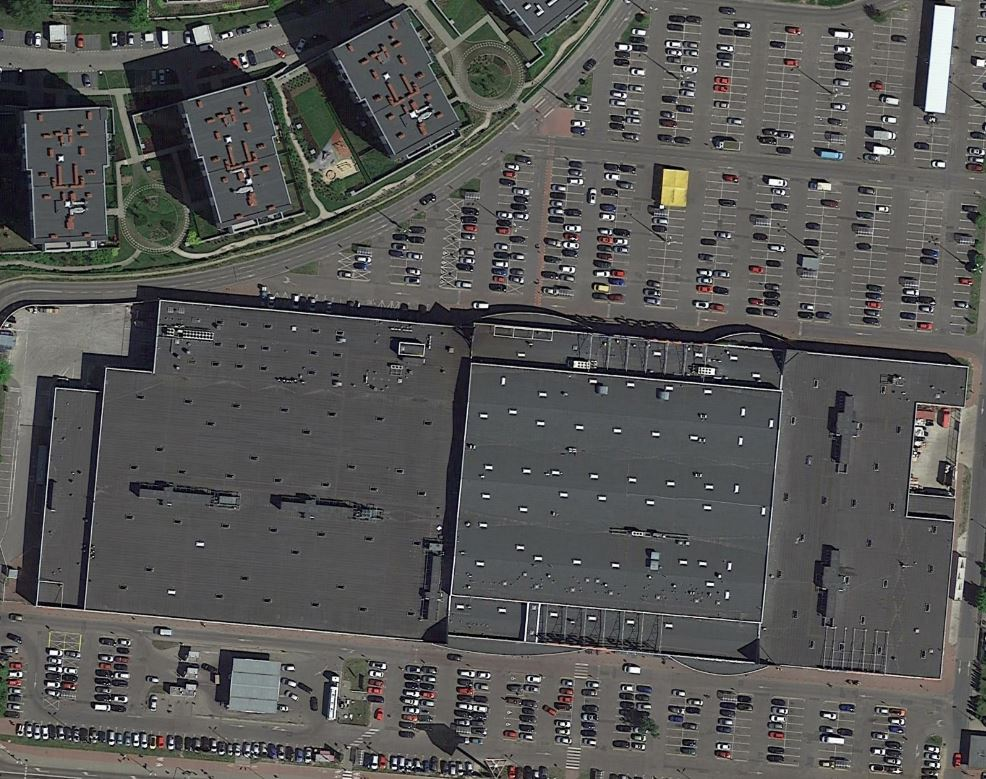block of flats: (170, 73, 306, 233), (325, 6, 465, 160), (16, 101, 124, 259)
shopping_center: (24, 287, 971, 685)
